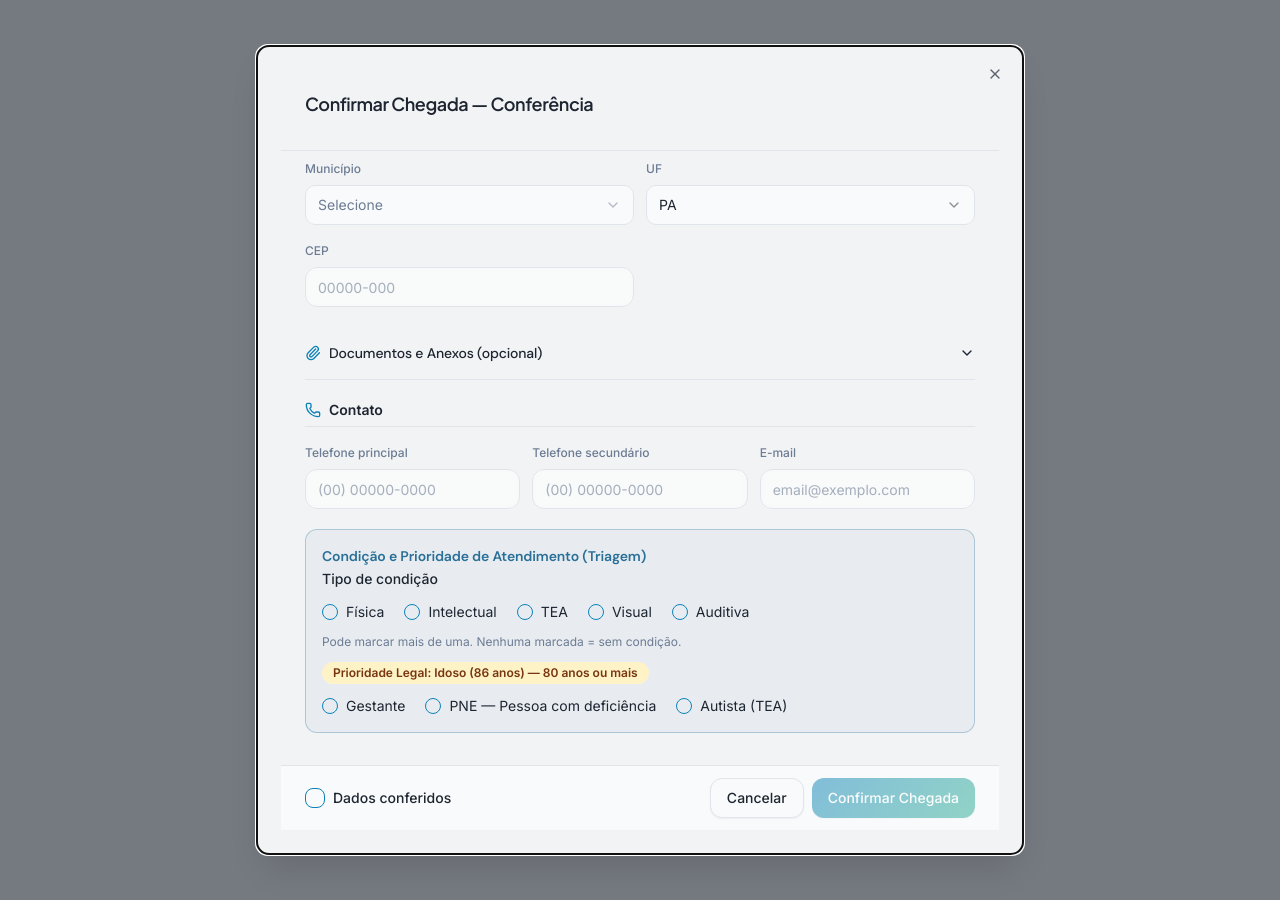
it: conferência de chegada e prioridades › salva TEA e atualiza só o paciente antes de confirmar, sem aguardar refresh
Later steps or results of the test are not shown.
(page scrolled)
Click the 3rd checkbox named "TEA" at [525, 612], box [517, 604, 533, 620]
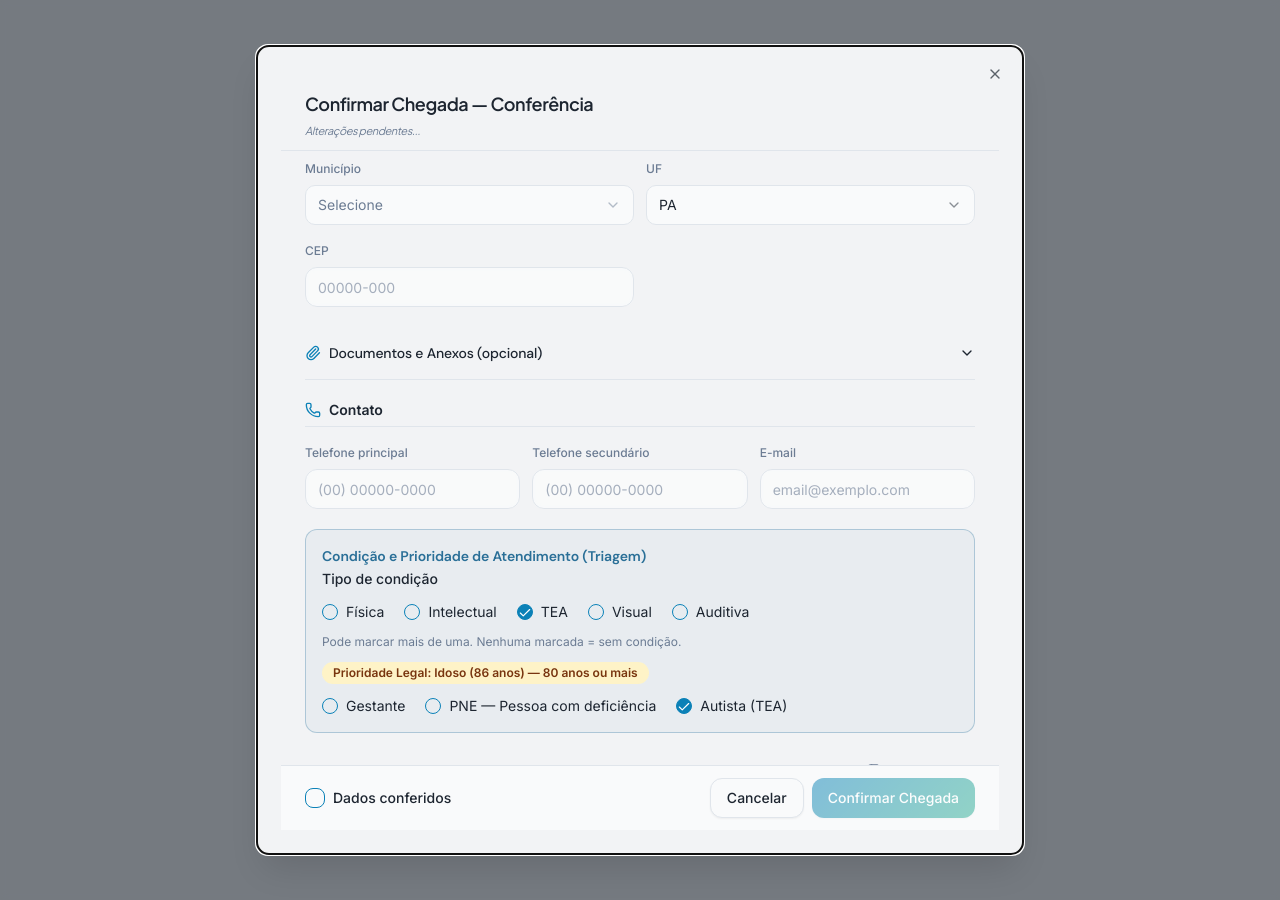
Now the checkbox named "Autista (TEA)" next to "Autista (TEA)" is checked, box [676, 698, 692, 714]
